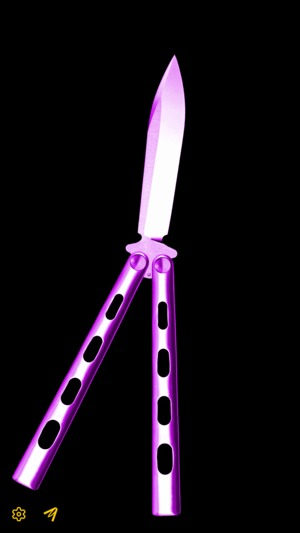knife: (13, 53, 192, 519)
